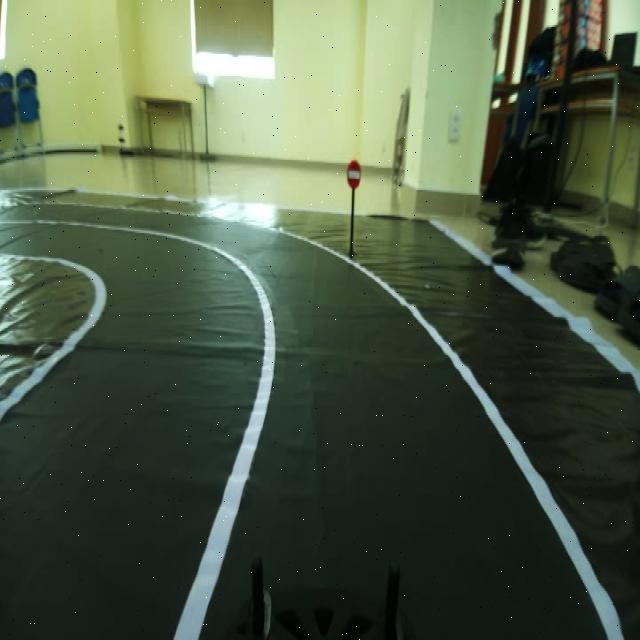no_entry: (342, 155, 362, 192)
